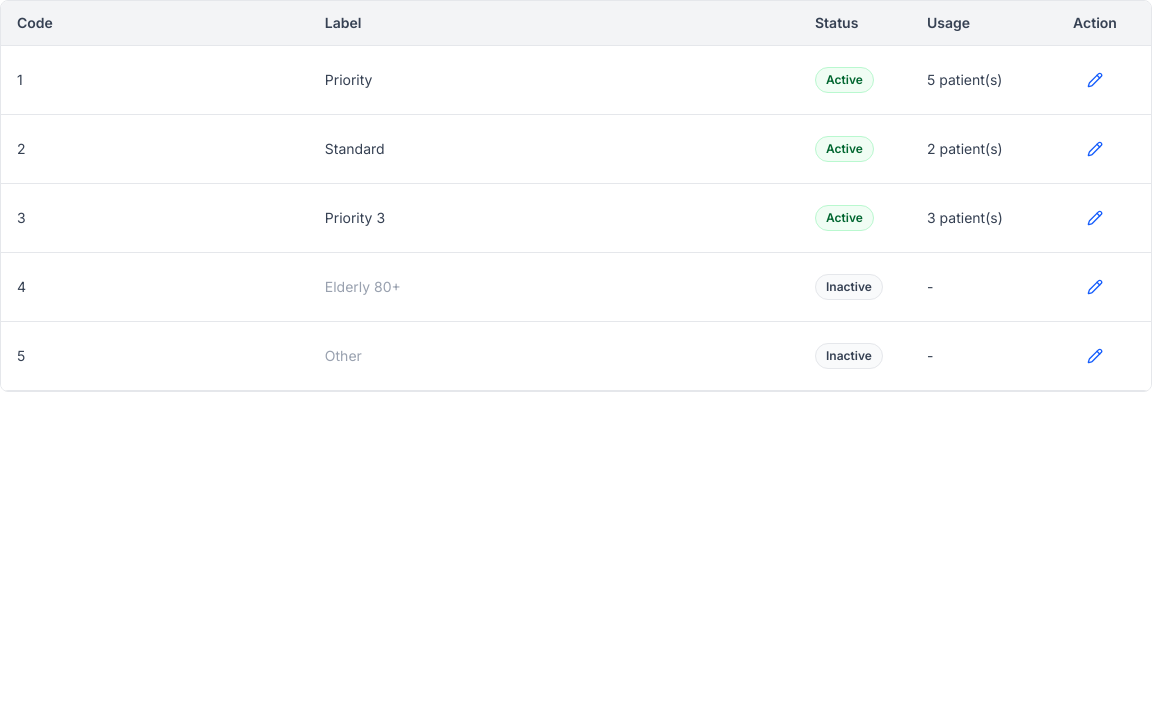
Test case: PriorityManagementList › blocks deactivation and performs bulk reassign
Enter edit mode for priority "3" (third row, code 3).
Click the button titled "Edit label" in the row of "Priority 3" at x=1095, y=218, box [1073,196,1117,240]
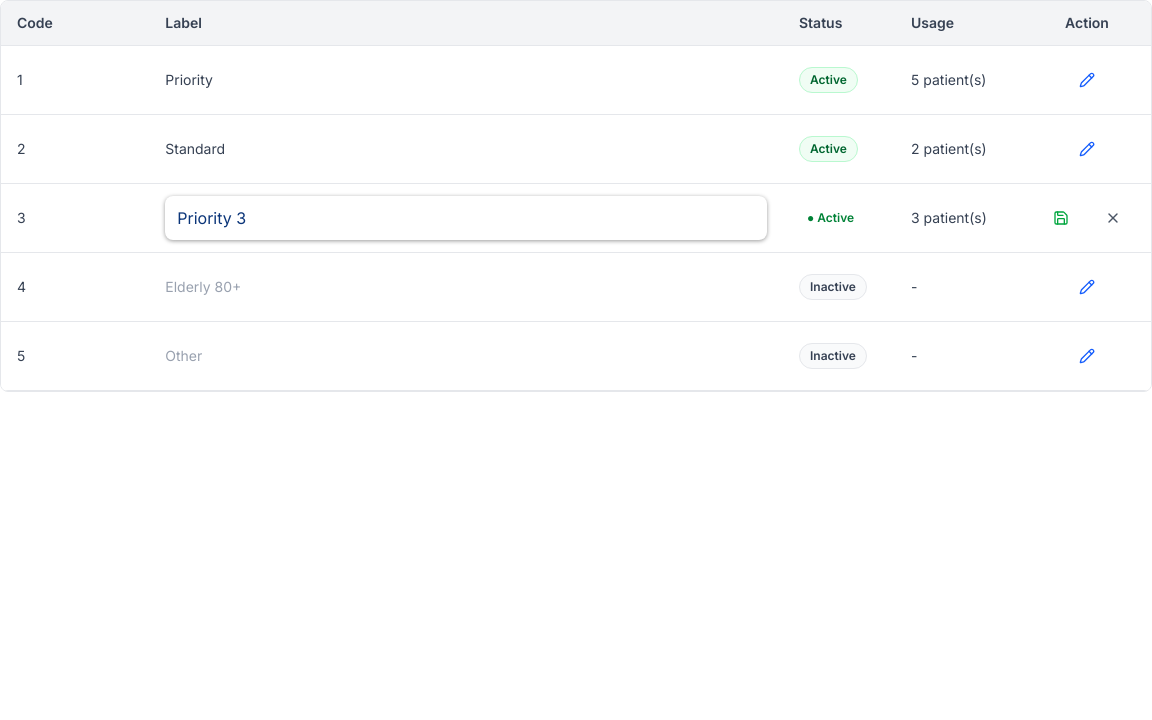
Click the button "● Active" at x=831, y=218, box [799,202,862,234]
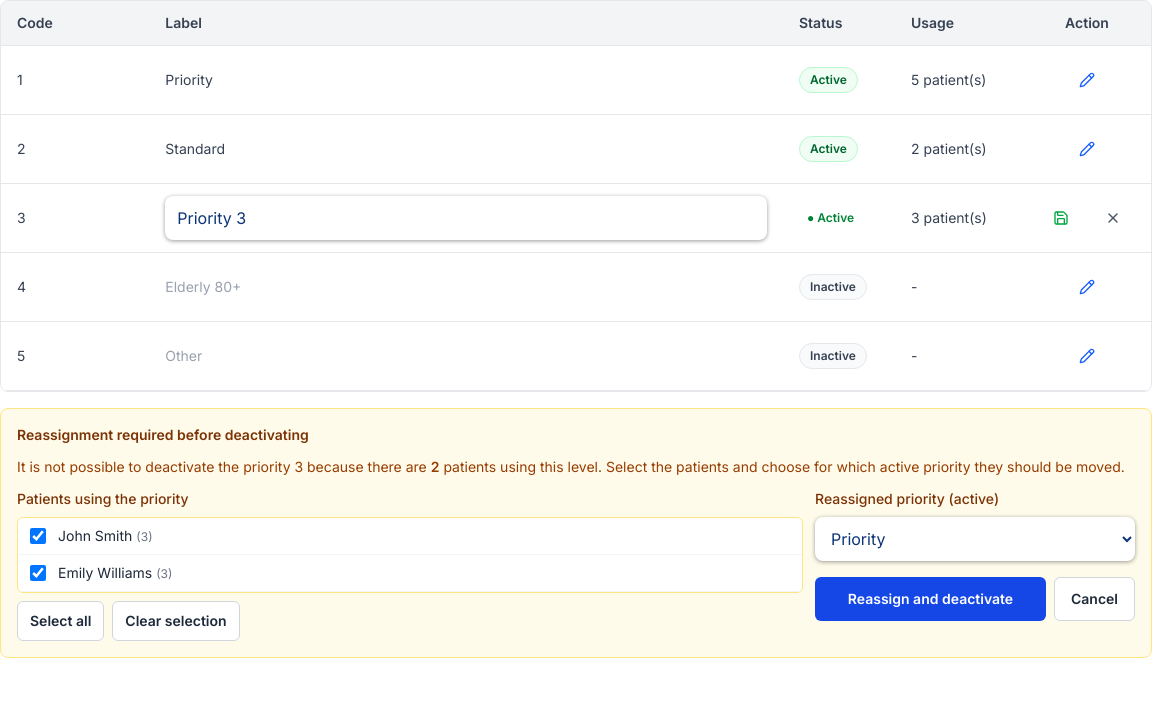
Check: the heading "Reassignment required before deactivating" is shown, box [17,426,309,443]
Check: the text "John Smith" is shown, box [58,527,132,544]
Check: the text "Emily Williams" is shown, box [58,564,152,581]
Click the button "Reassign and deactivate" at x=930, y=599, box [815,577,1046,621]
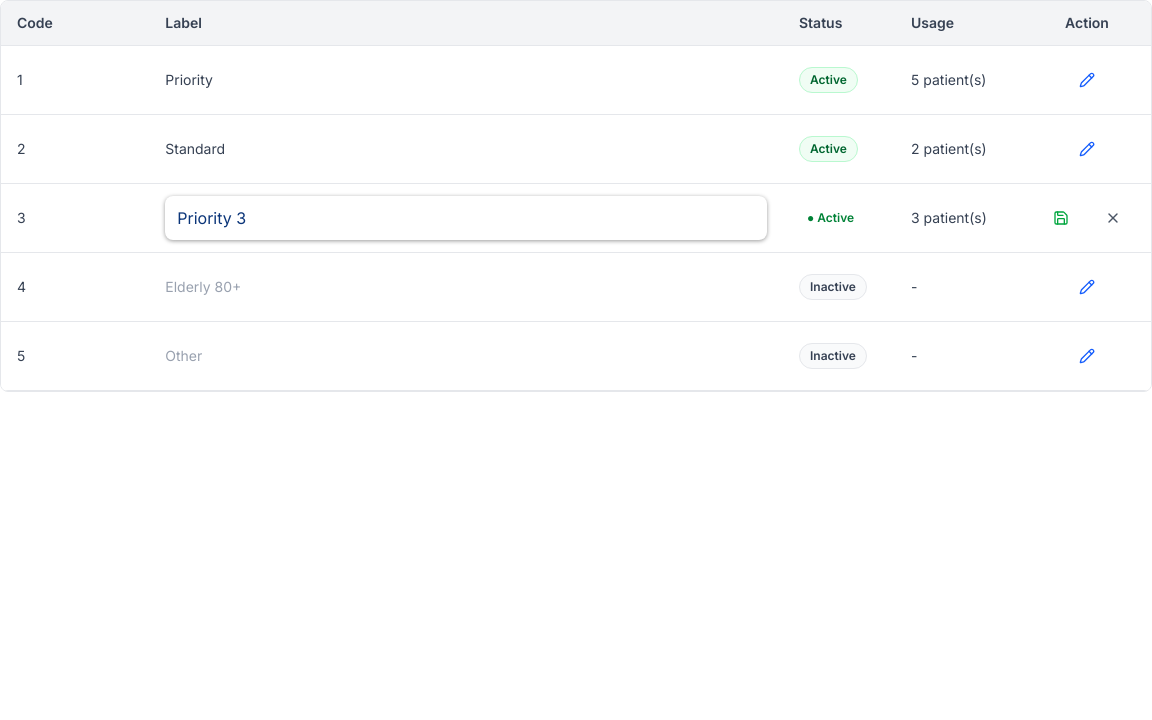
Check: the text "John Smith" is gone
